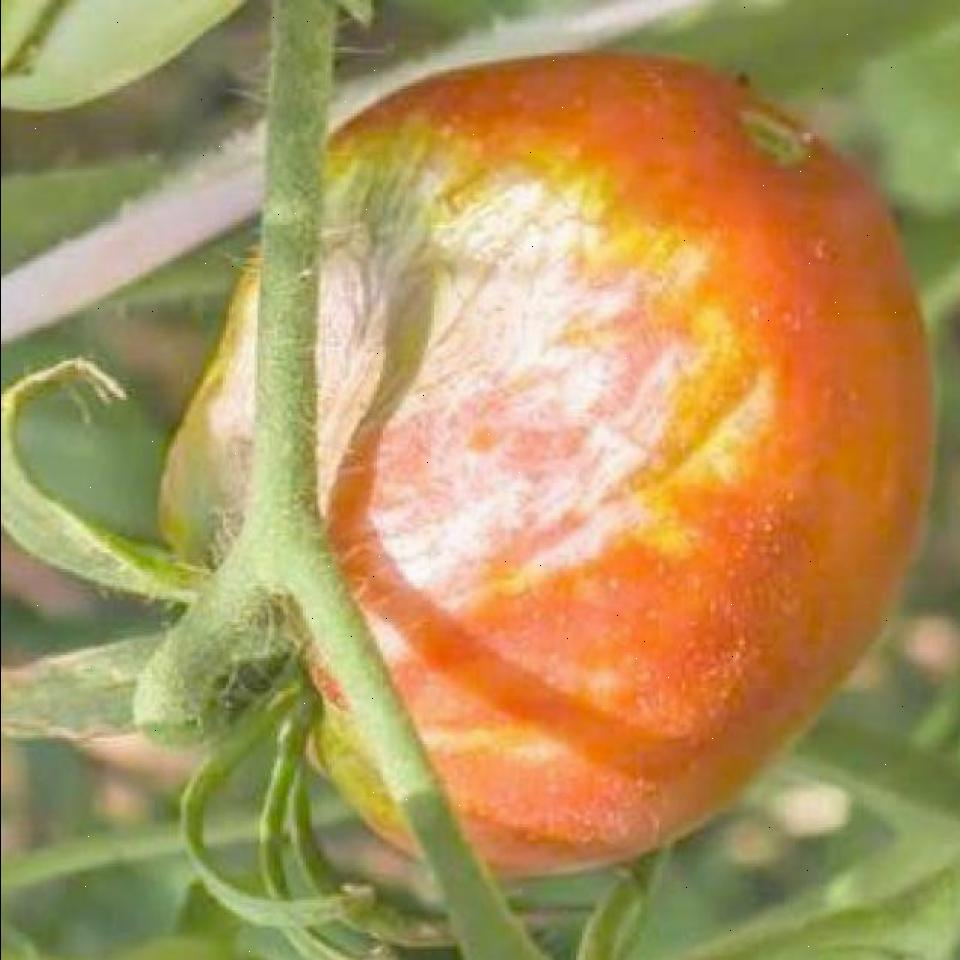Sunscald: (234, 131, 730, 670)
